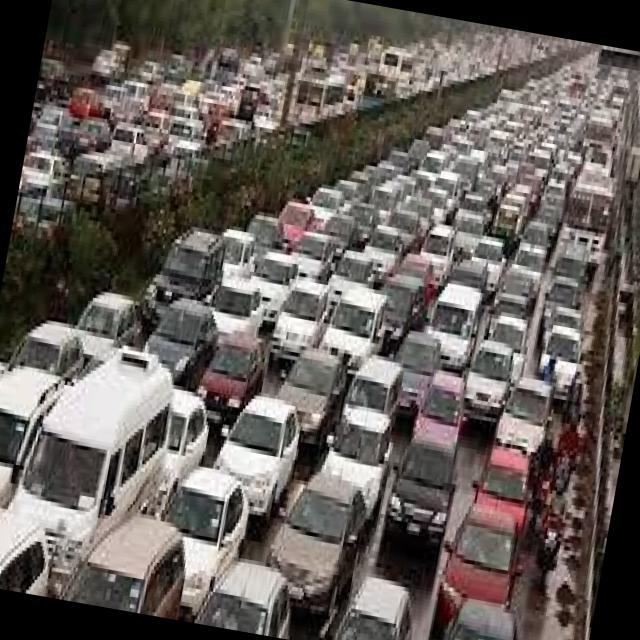ambulance: (14, 329, 175, 567)
